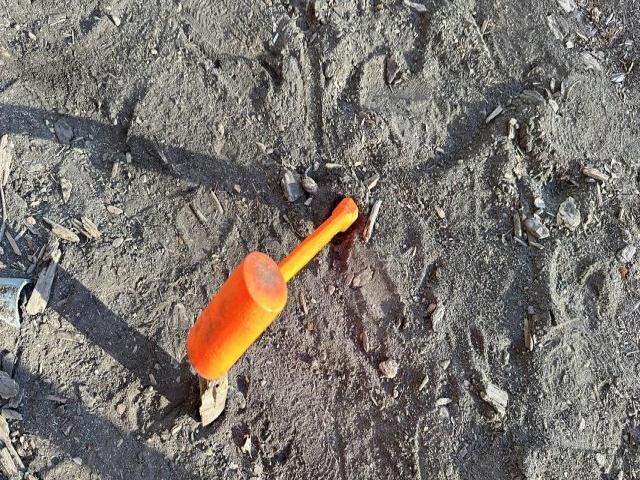hammer: (187, 198, 360, 380)
